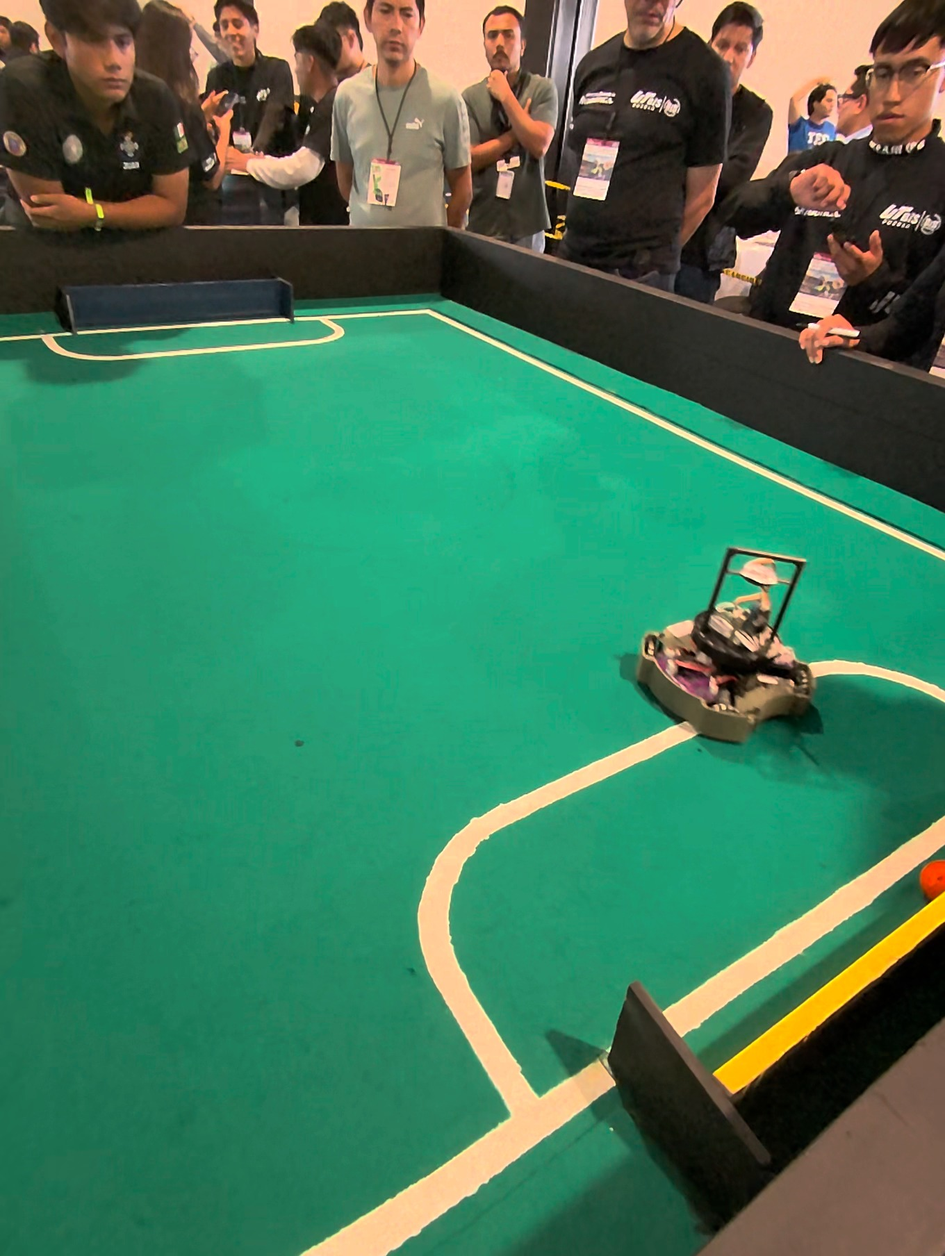Robot: (637, 530, 818, 752)
pelota: (910, 843, 945, 913)
